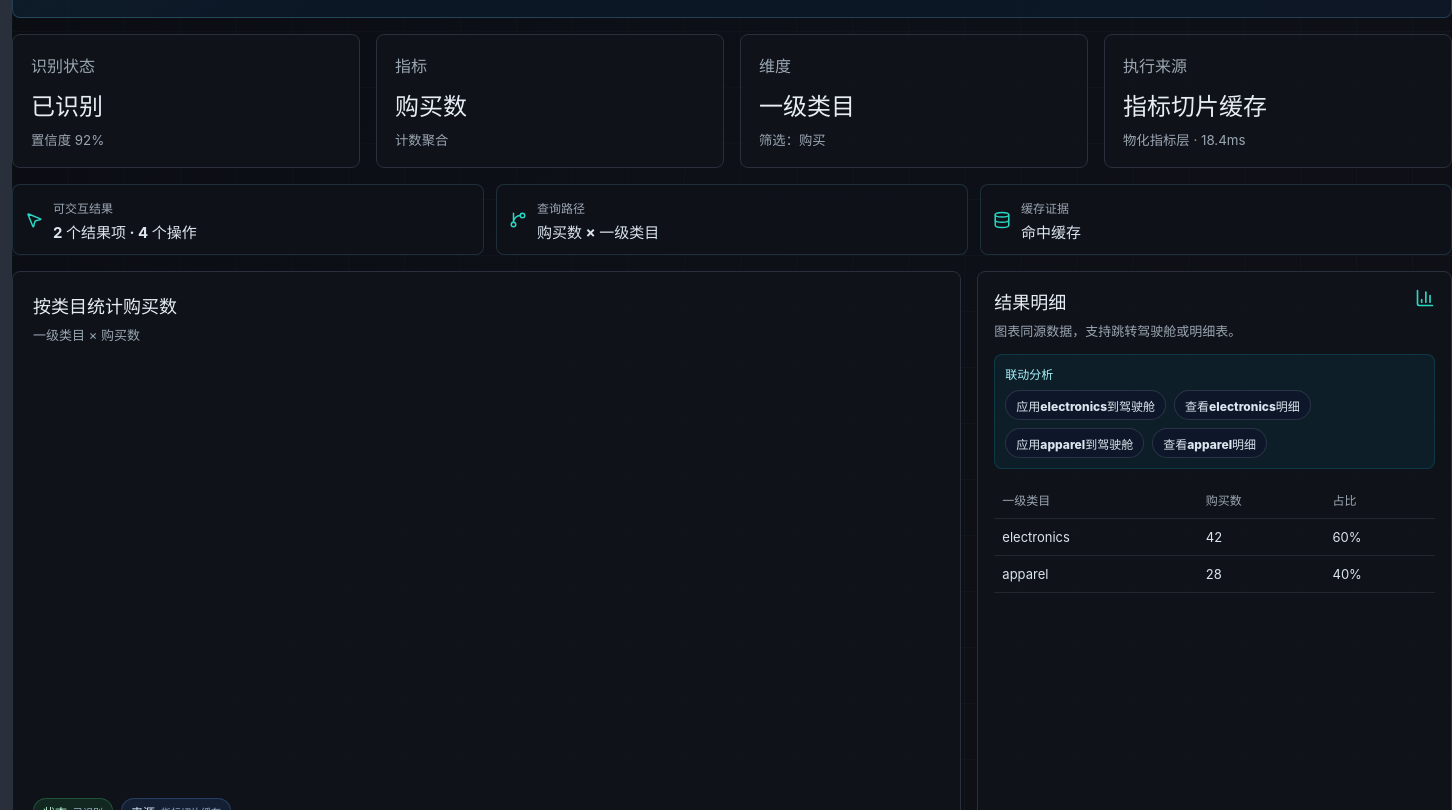
Test: ControlledQueryPage › turns categorical query rows into dashboard and detail actions
(page scrolled)
Check: the text "2 个结果项 · 4 个操作" is shown, box [53, 223, 197, 242]
Click the button "应用electronics到驾驶舱" at [1086, 405], box [1005, 390, 1166, 420]
(page scrolled)
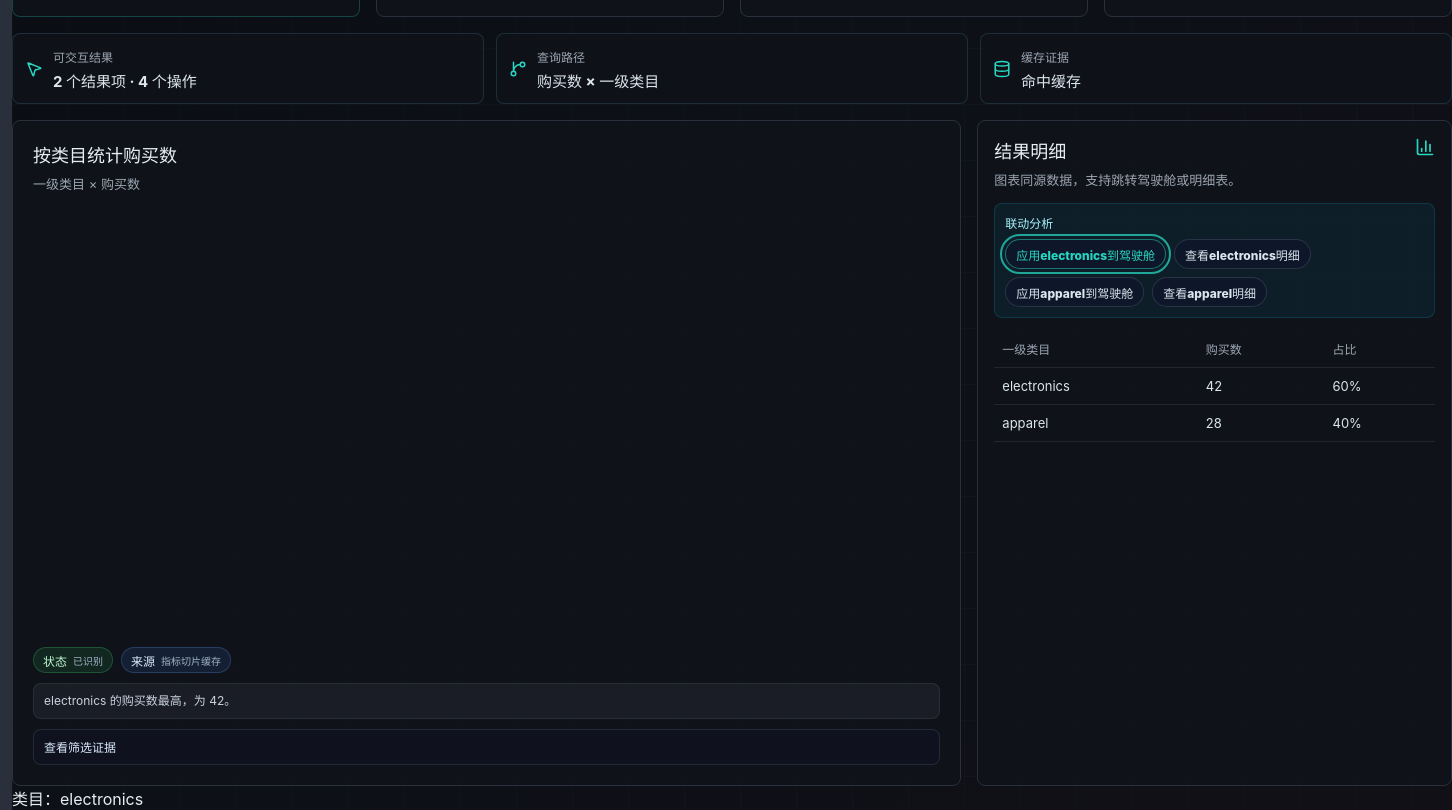
Check: the text named "当前智能查询筛选" reads "类目：electronics", box [12, 789, 143, 809]
